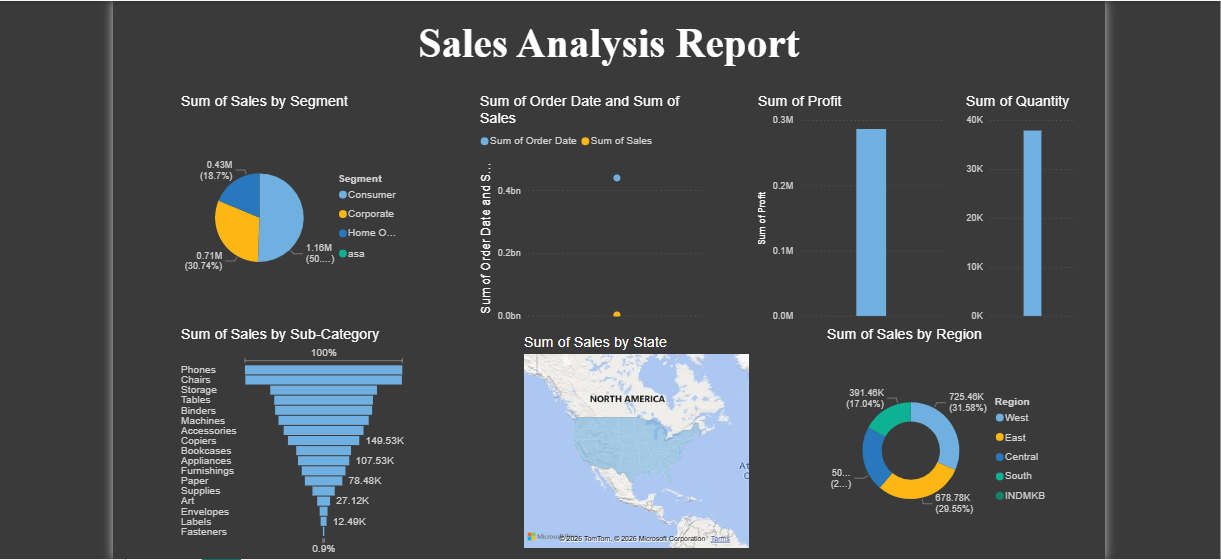

Layout of this report page (visuals, bound fields, positions):
{"tool":"powerbi","page":{"name":"Page 1","canvas":[1280,720],"ordinal":0},"visuals":[{"type":"donutChart","fields":{"Category":["Orders.Region"],"Y":["Sum(Orders.Sales)"]},"box":[915.5,419.9,300.7,300.7],"z":0},{"type":"funnel","fields":{"Category":["Orders.Sub-Category"],"Y":["Sum(Orders.Sales)"]},"box":[82.3,419.9,300.7,300.7],"z":1000},{"type":"filledMap","fields":{"Category":["Orders.State"]},"box":[525.8,430,300.7,280.5],"z":2000},{"type":"pieChart","fields":{"Category":["Orders.Segment"],"Y":["Sum(Orders.Sales)"]},"box":[82.3,119.3,300.7,300.7],"z":3000},{"type":"lineChart","fields":{"Y":["Sum(Orders.Order Date)","Sum(Orders.Sales)"]},"box":[468.7,119.3,300.7,300.7],"z":4000},{"type":"clusteredColumnChart","fields":{"Y":["Sum(Orders.Profit)"]},"box":[826.5,119.3,248.6,300.7],"z":5000},{"type":"clusteredColumnChart","fields":{"Y":["Sum(Orders.Quantity)"]},"box":[1095.2,119.3,151.2,300.7],"z":6000},{"type":"textbox","box":[0,18.5,1280,82.3],"z":7000}]}

Visuals, with their boxes on the page's 1280x720 design canvas (x1, y1, x2, y2). These are canvas units, not pixel positions in the 1221x560 screenshot, which may show the page scaled, cropped or inside an application window:
donutChart - Orders.Region x Sum(Orders.Sales): <box>916,420,1216,721</box>
funnel - Orders.Sub-Category x Sum(Orders.Sales): <box>82,420,383,721</box>
filledMap - Orders.State: <box>526,430,826,710</box>
pieChart - Orders.Segment x Sum(Orders.Sales): <box>82,119,383,420</box>
lineChart - Sum(Orders.Order Date) x Sum(Orders.Sales): <box>469,119,769,420</box>
clusteredColumnChart - Sum(Orders.Profit): <box>826,119,1075,420</box>
clusteredColumnChart - Sum(Orders.Quantity): <box>1095,119,1246,420</box>
textbox: <box>0,18,1280,101</box>
